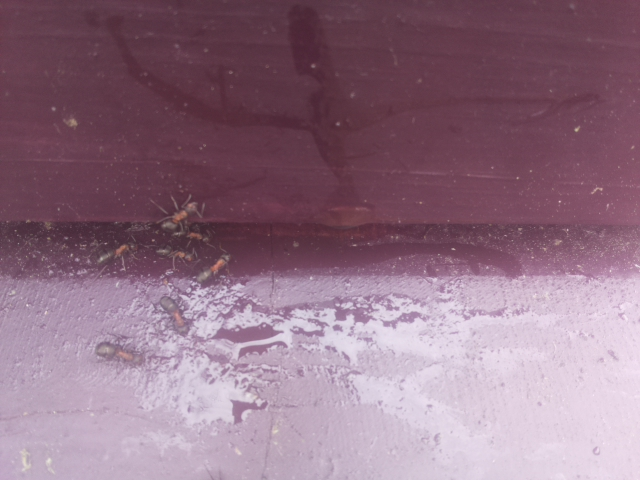ant: (151, 192, 209, 241), (186, 250, 237, 290), (86, 338, 148, 367), (88, 240, 143, 268), (155, 293, 192, 332)
